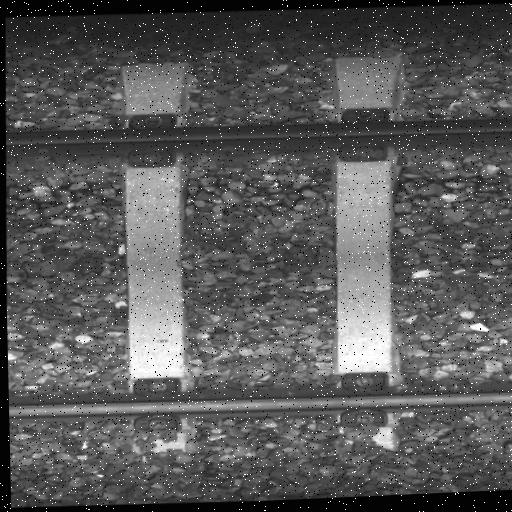sleeper: (322, 55, 408, 460), (115, 64, 198, 469)
